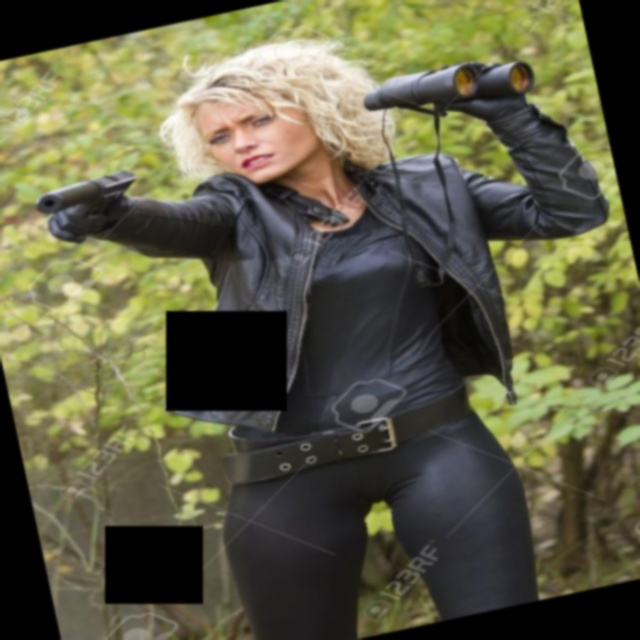gun: (16, 141, 168, 270)
